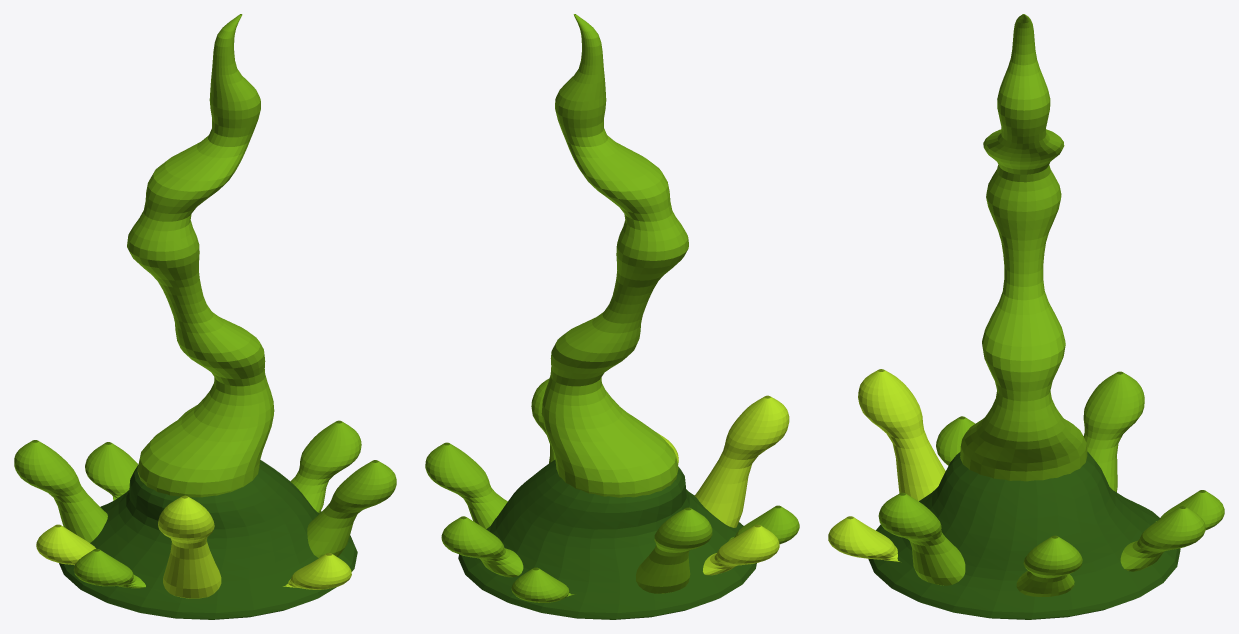
The picture shows the model from 3 angles, left to right: view 1: azimuth 30°, elevation 25°; view 2: azimuth 150°, elevation 25°; view 3: azimuth 270°, elevation 25°; orthographic projection. The views are drawn at different scales.
Size of the model in its own units: 2.86 by 4.46 by 2.83.
Materials: 11 (11 with a texture image).
